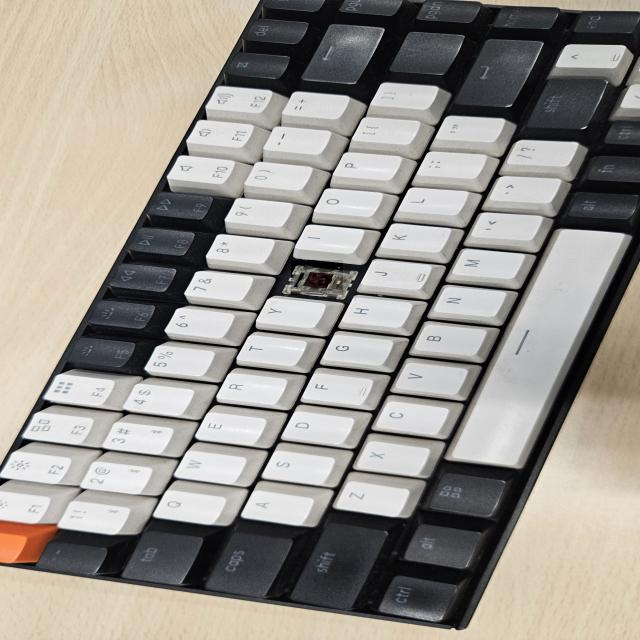C: (291, 260, 343, 295)
